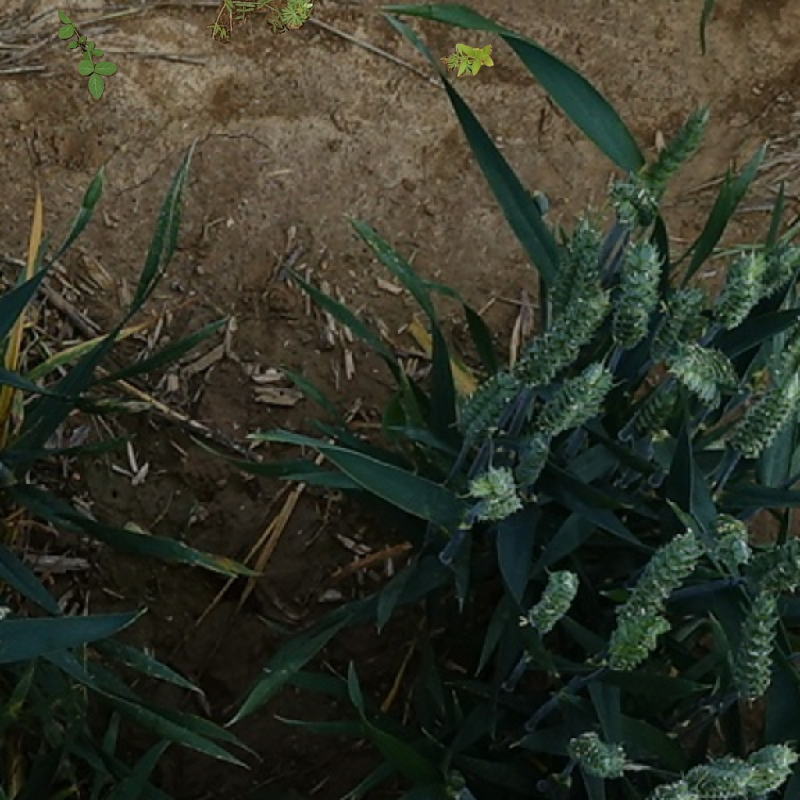spikelet: (511, 287, 603, 375), (617, 531, 701, 621), (717, 585, 779, 701), (451, 357, 533, 443), (609, 229, 665, 339), (533, 359, 613, 433), (729, 374, 799, 456), (650, 102, 711, 193), (539, 223, 600, 311), (635, 293, 707, 364), (726, 524, 800, 591), (707, 253, 760, 332), (521, 567, 579, 633), (661, 344, 732, 397), (603, 161, 659, 225), (610, 610, 669, 669), (567, 728, 631, 779), (465, 464, 520, 521), (697, 509, 751, 565), (740, 743, 797, 793), (684, 760, 742, 799), (750, 244, 797, 292), (630, 392, 671, 435), (519, 437, 549, 486)
weed: (58, 8, 118, 101), (207, 1, 324, 44), (440, 43, 494, 78)
